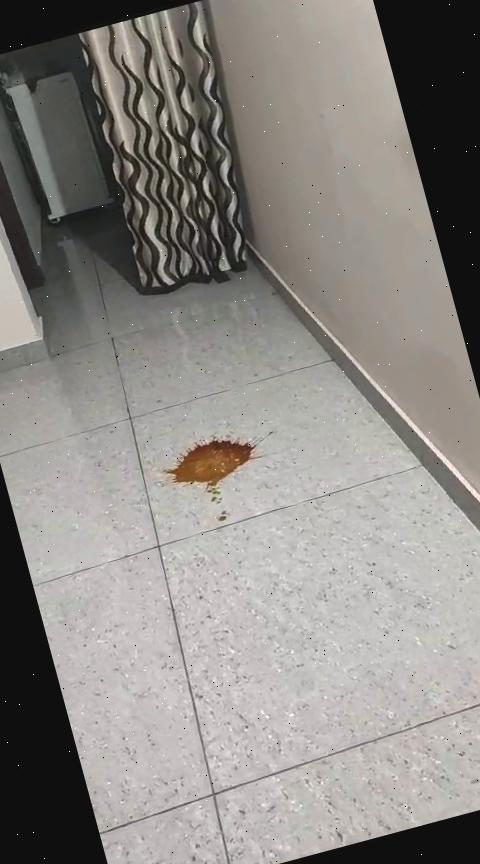dirty_floor: (140, 399, 294, 537)
